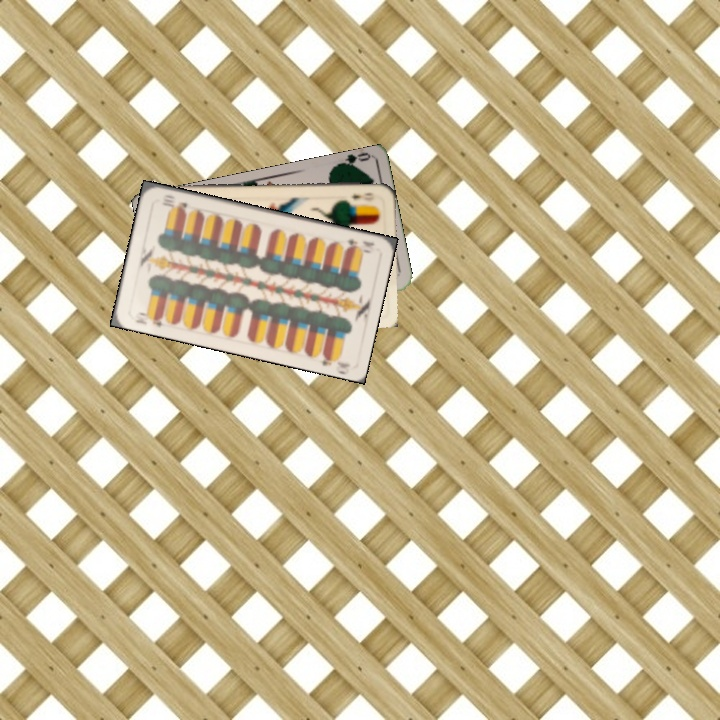E10: (131, 308, 168, 330), (342, 235, 377, 256)
EO: (348, 188, 377, 203)
GO: (332, 150, 372, 172)
